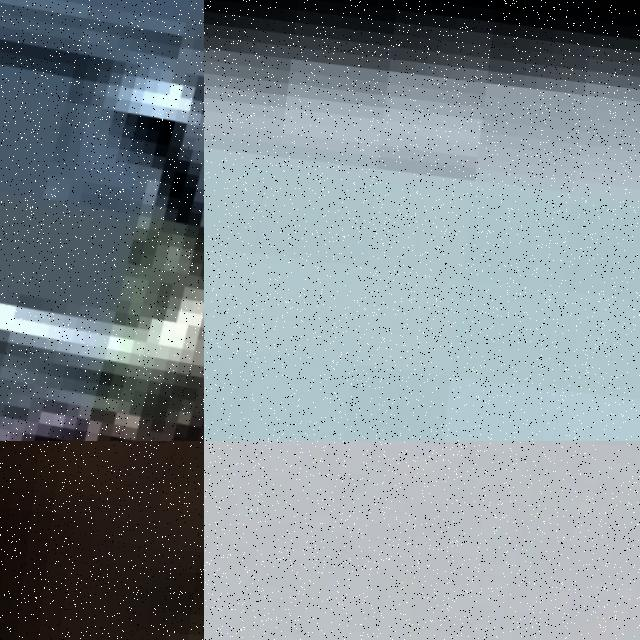0: (0, 0, 204, 441)
drone: (204, 441, 640, 640)
